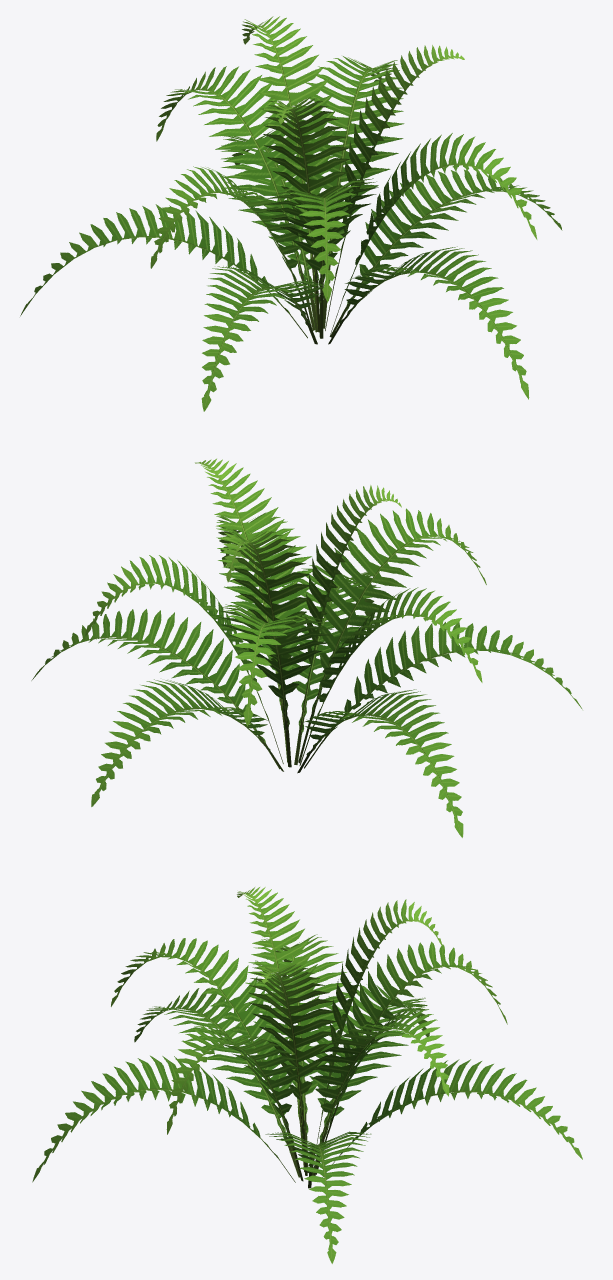
3 renders of one model, top to bottom at view 1: azimuth 30°, elevation 25°; view 2: azimuth 150°, elevation 25°; view 3: azimuth 270°, elevation 25°, orthographic. The views are drawn at different scales.
Parts seen in each view (by area): view 1: Mesh_FernFronds; view 2: Mesh_FernFronds; view 3: Mesh_FernFronds.
Boxes of the visible parts, <box> form: Mesh_FernFronds: <box>20,16,562,411</box>; Mesh_FernFronds: <box>31,458,582,837</box>; Mesh_FernFronds: <box>32,887,582,1263</box>.
Bounding box in the file's own units: 1.31 × 0.6798 × 1.31.
1 material, 1 textured.
